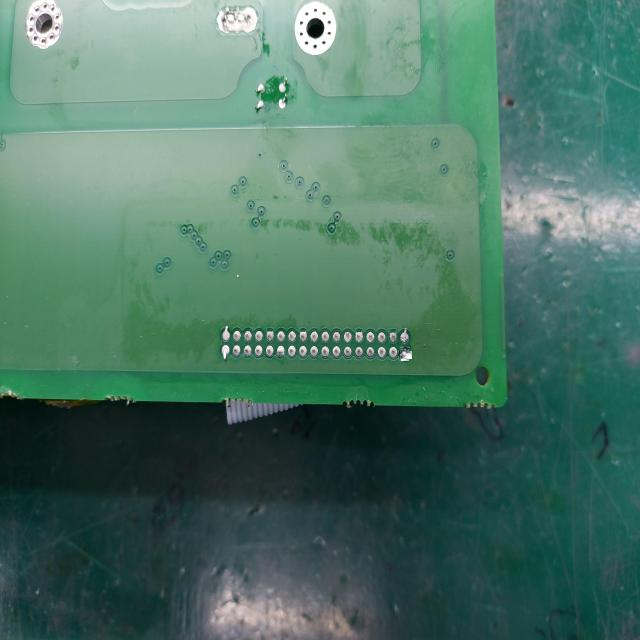redundant: (398, 349, 412, 359)
